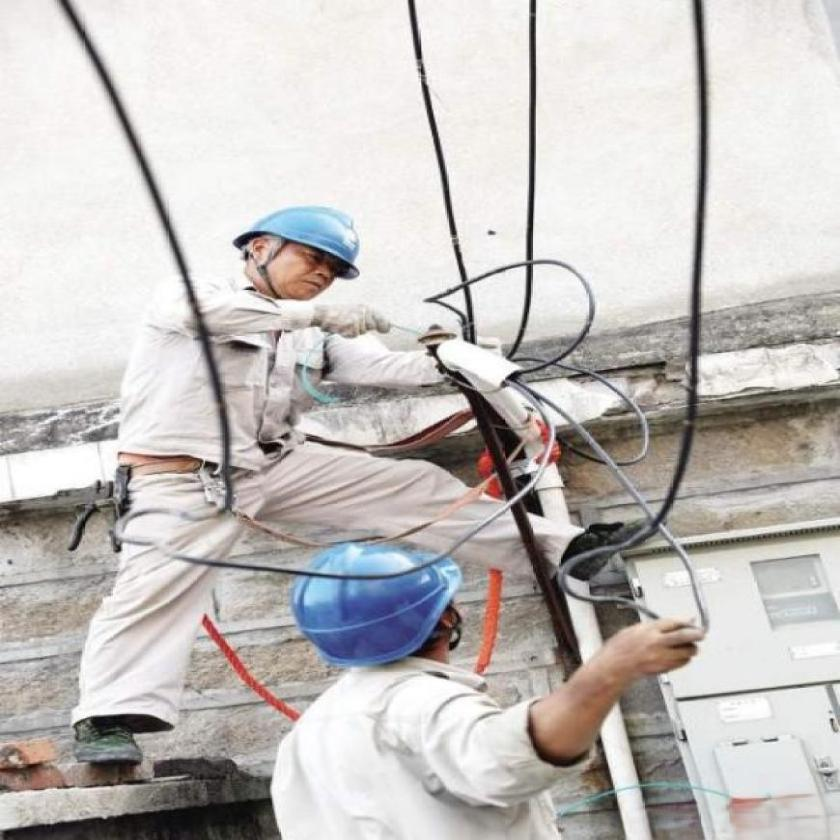Con_casco: (231, 183, 360, 305)
